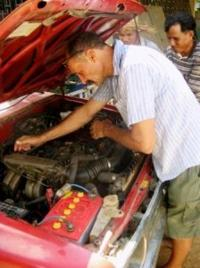person: (13, 31, 200, 266)
